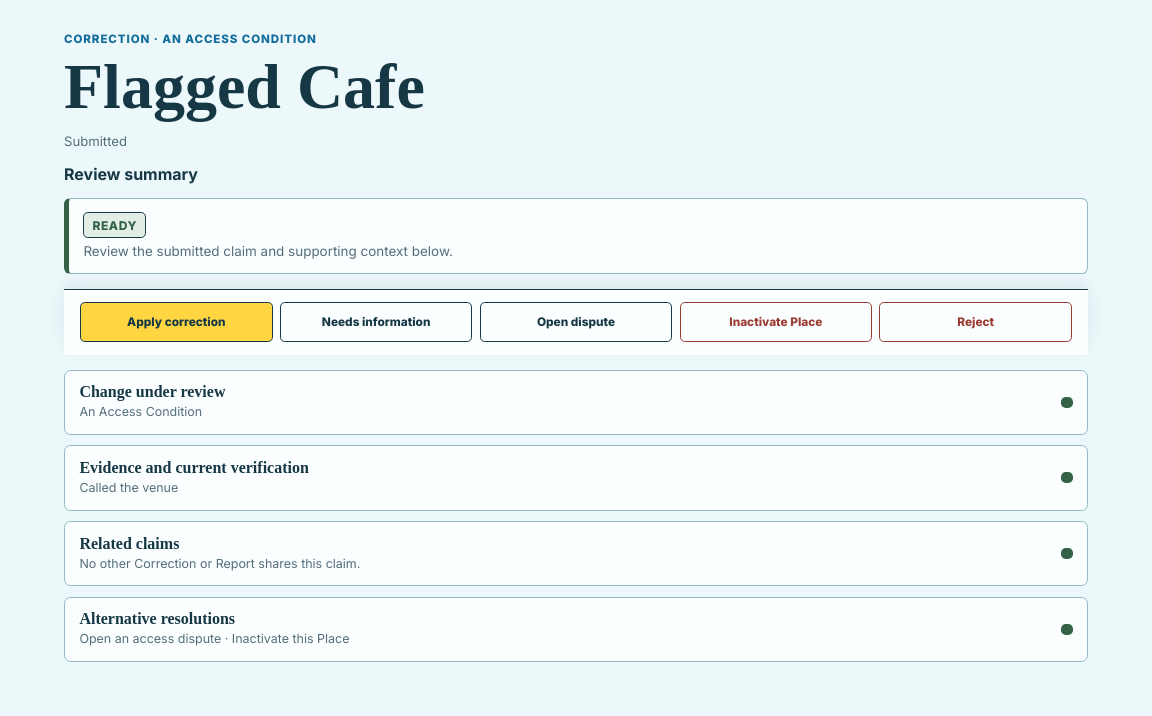
Test: Moderator Correction and Report detail › preserves the proposed whenever-open state when editing an Access Condition application
Click the text "Change under review". click: (152,392)
box: [79,383,226,400]
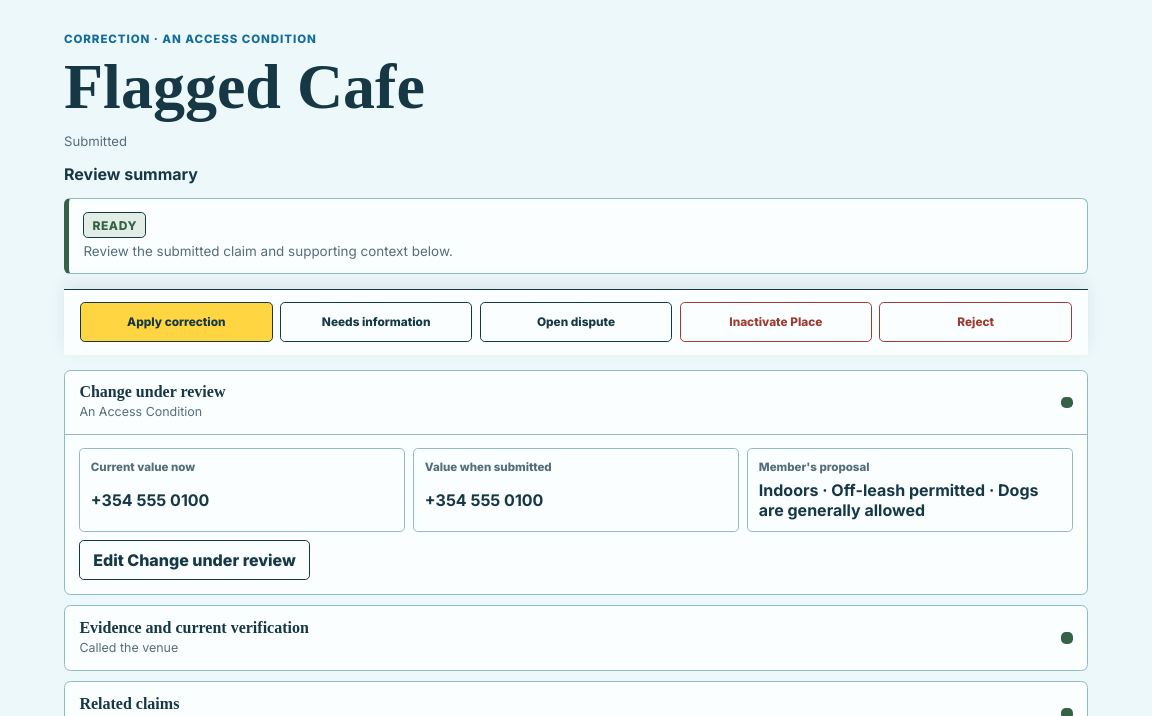
Click the button "Edit Change under review". click: (195,560)
box: [79,540,310,580]
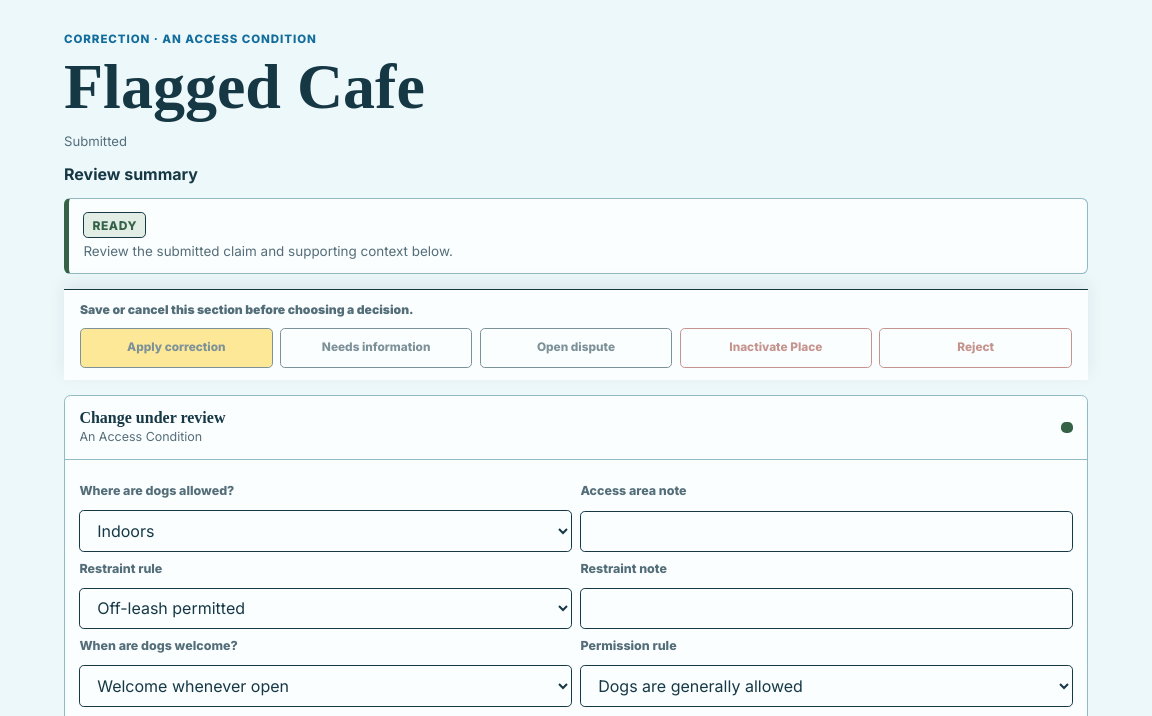
Now the dropdown labelled "When are dogs welcome?" shows "Welcome whenever open", box [79,665,572,707]
